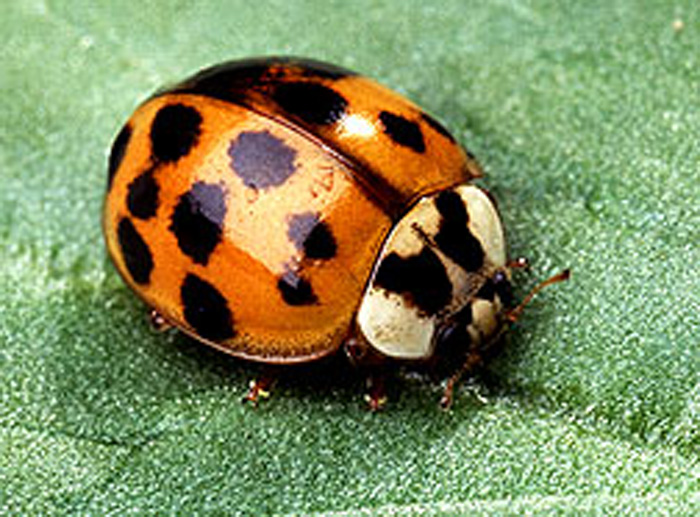convergent lady beetle: (93, 36, 573, 433)
